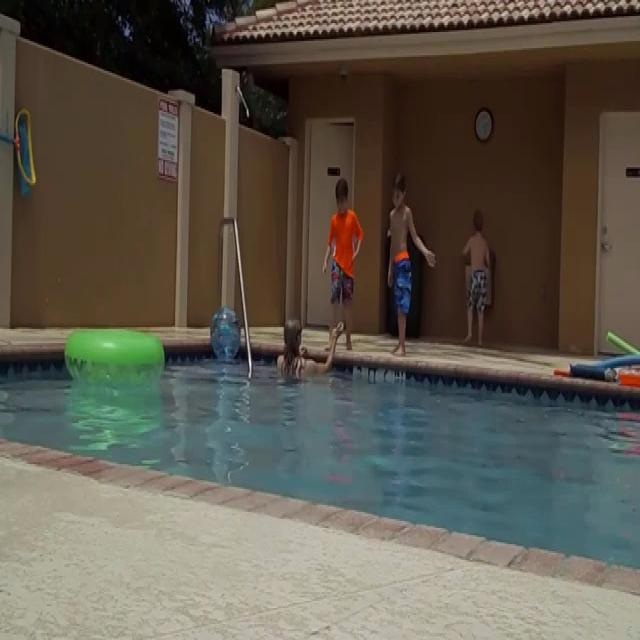adult: (268, 315, 339, 387)
child: (385, 170, 421, 362), (325, 173, 359, 352), (466, 204, 496, 346)
